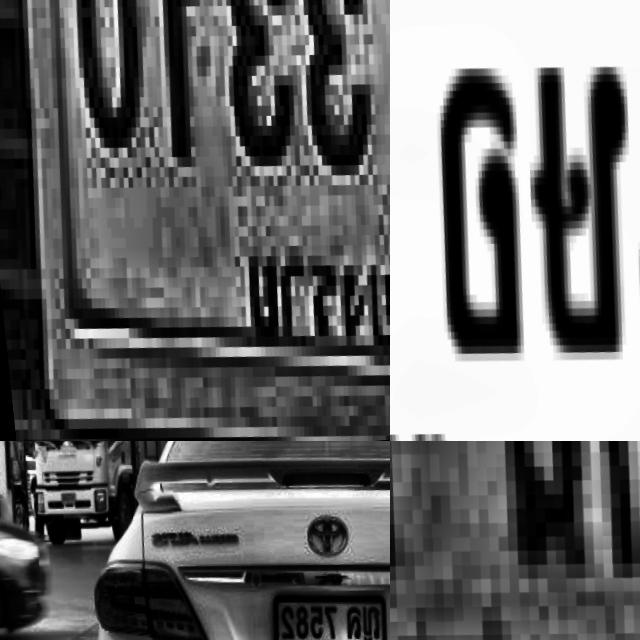license-plate: (0, 0, 390, 441), (390, 0, 640, 441), (390, 441, 640, 640), (256, 584, 387, 640)
